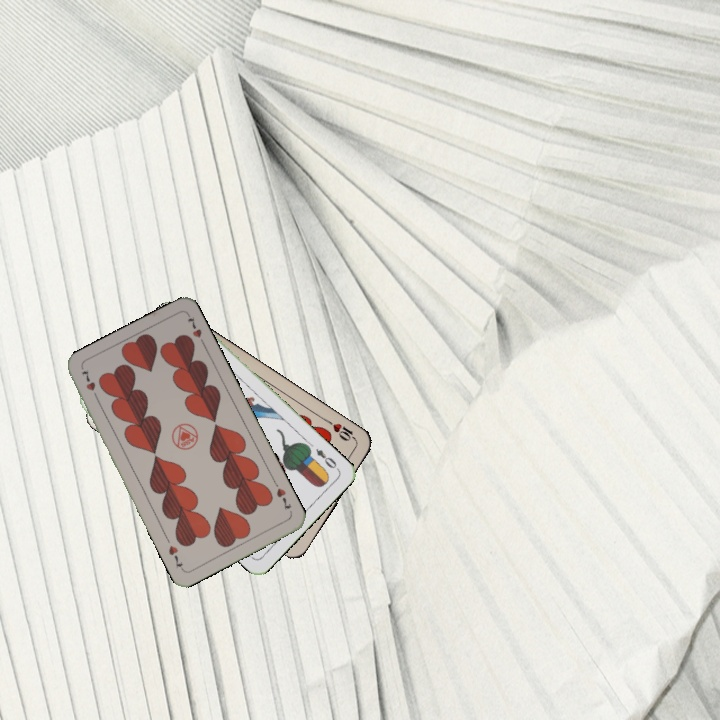EO: (312, 444, 341, 473)
H10: (323, 417, 359, 444)
H7: (77, 366, 101, 403), (270, 478, 294, 513)
